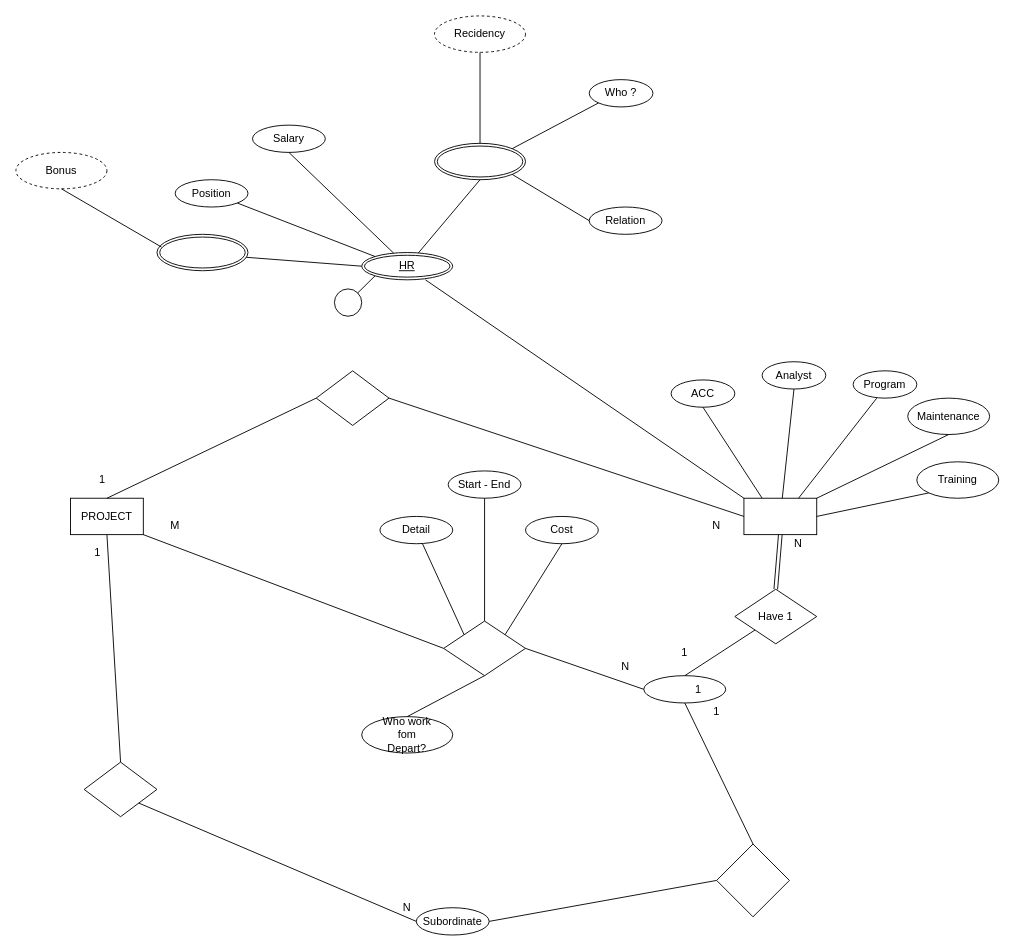
Image size: 1015x951. Some labels were removed from this diagram. Here are the shapes that lost their labels. From the top down, the box of each, then its label:
(434, 142, 526, 180): Family
(156, 233, 248, 271): Start date
(334, 288, 362, 316): ID
(315, 370, 389, 425): Make
(743, 497, 817, 535): Department
(443, 620, 526, 676): Know
(643, 675, 726, 703): Supervisor
(83, 761, 157, 817): Work in
(716, 843, 789, 917): Must have
